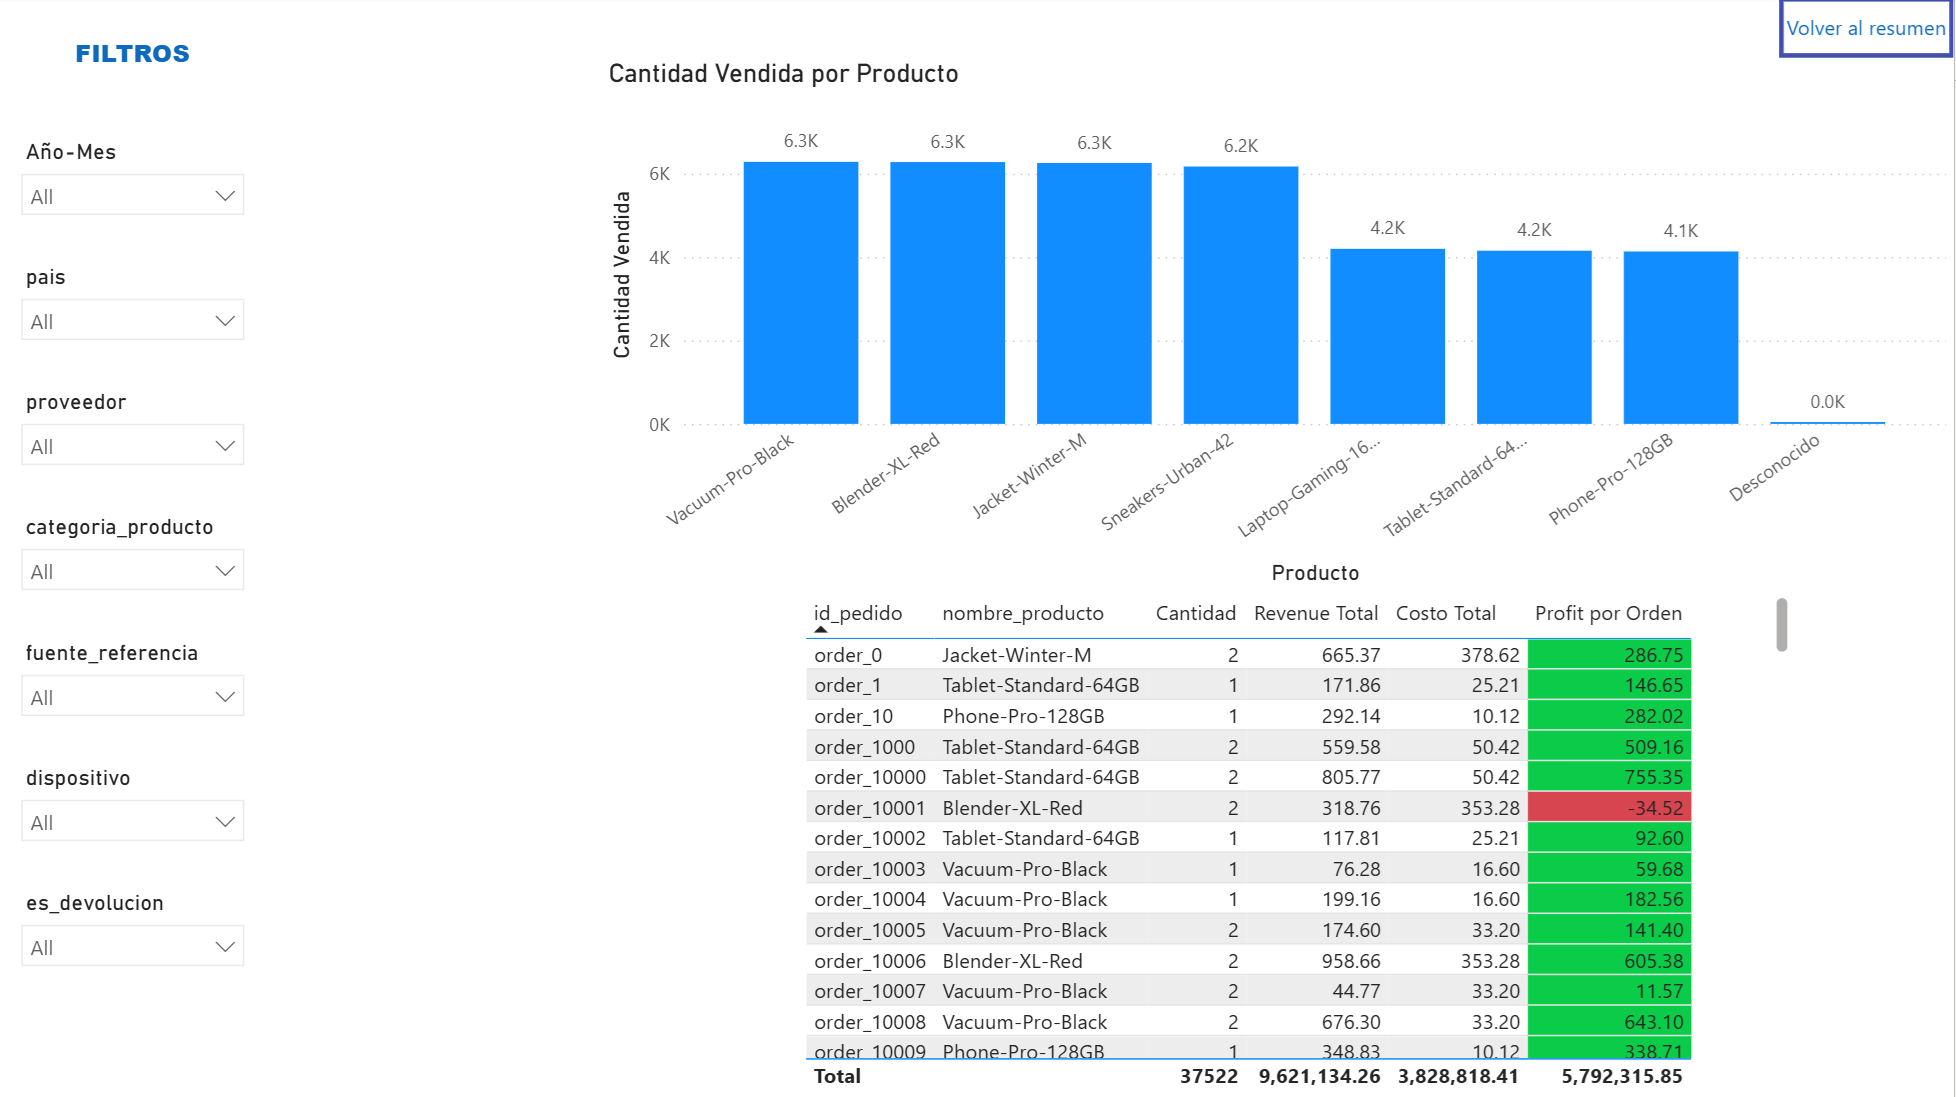

The dashboard page shown, as its layout file describes it:
{"tool":"powerbi","page":{"name":"Detalle","canvas":[1280,720],"ordinal":1},"visuals":[{"type":"columnChart","title":"Cantidad Vendida por Producto","fields":{"Category":["orders_clean.nombre_producto"],"Y":["orders_clean.Cantidad Vendida"]},"box":[394.6,39.9,885.4,349.4],"z":1},{"type":"tableEx","fields":{"Values":["orders_clean.id_pedido","orders_clean.nombre_producto","Sum(orders_clean.cantidad)","orders_clean.Revenue Total","orders_clean.Costo Total","orders_clean.Profit por Orden"]},"box":[522.9,387.4,653.7,332.4],"z":2},{"type":"slicer","fields":{"Values":["Dim_Fecha.Año-Mes"]},"box":[5.2,87.7,166.2,81.8],"z":3},{"type":"slicer","fields":{"Values":["orders_clean.pais"]},"box":[5.2,169.5,166.2,81.8],"z":4},{"type":"slicer","fields":{"Values":["catalog_clean.proveedor"]},"box":[5.2,251.3,166.2,81.8],"z":5},{"type":"slicer","fields":{"Values":["catalog_clean.categoria_producto"]},"box":[5.2,333.1,166.2,82.5],"z":6},{"type":"slicer","fields":{"Values":["orders_clean.dispositivo"]},"box":[5.2,497.3,166.2,81.8],"z":7},{"type":"slicer","fields":{"Values":["orders_clean.fuente_referencia"]},"box":[5.2,415.5,166.2,81.8],"z":8},{"type":"slicer","fields":{"Values":["orders_clean.es_devolucion"]},"box":[5.2,579.1,166.2,81.8],"z":9},{"type":"textbox","box":[16.4,19.6,143.3,34],"z":10},{"type":"actionButton","box":[1165.7,0,114.3,39.7],"z":11}]}

Visuals, with their boxes in screenshot pixels (x1, y1, x2, y2), scaled from the page's 1280x720 canvas onto the 1956x1097 screenshot:
"Cantidad Vendida por Producto" columnChart: 603,61,1955,593
tableEx - orders_clean.id_pedido x orders_clean.nombre_producto: 799,590,1798,1096
slicer - Dim_Fecha.Año-Mes: 8,134,262,258
slicer - orders_clean.pais: 8,258,262,383
slicer - catalog_clean.proveedor: 8,383,262,508
slicer - catalog_clean.categoria_producto: 8,508,262,633
slicer - orders_clean.dispositivo: 8,758,262,882
slicer - orders_clean.fuente_referencia: 8,633,262,758
slicer - orders_clean.es_devolucion: 8,882,262,1007
textbox: 25,30,244,82
actionButton: 1781,0,1955,60
